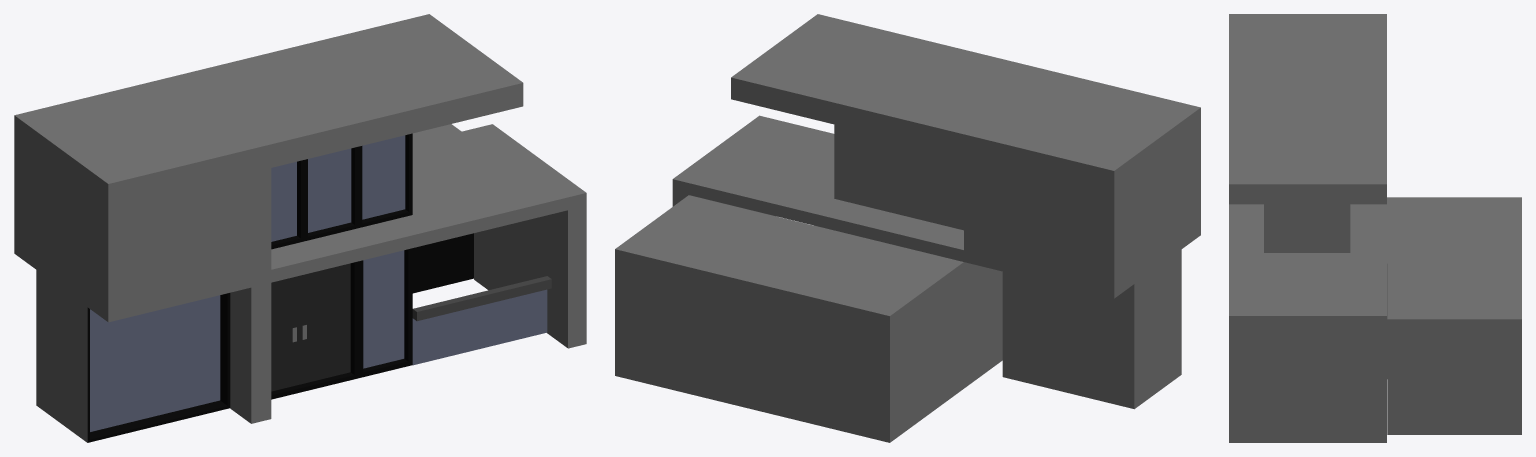
File: casa2.fbx
3 views of the same model, side by side, from view 1: azimuth 30°, elevation 25°; view 2: azimuth 150°, elevation 25°; view 3: azimuth 270°, elevation 25° (orthographic). The views are drawn at different scales.
Visible parts, largest first — view 1: Cube; view 2: Cube; view 3: Cube.
Part boxes in pixels (bbox=[...]): Cube: bbox=[14, 14, 586, 442]; Cube: bbox=[615, 14, 1200, 442]; Cube: bbox=[1229, 14, 1521, 442].
Size of the model in its own units: 3605 by 1993 by 2273.
